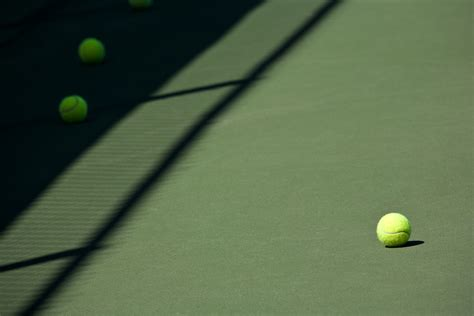tennis_ball: (376, 212, 411, 246), (77, 36, 105, 64), (59, 95, 87, 122)
